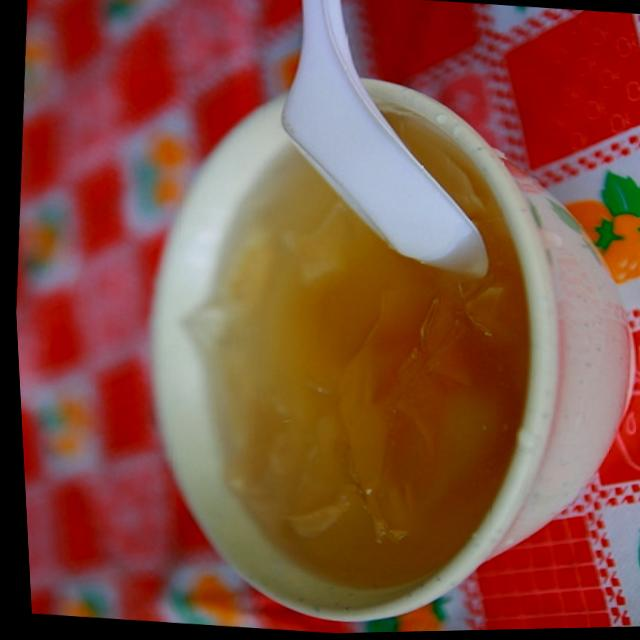蛋糕甜品: (79, 48, 639, 626)
